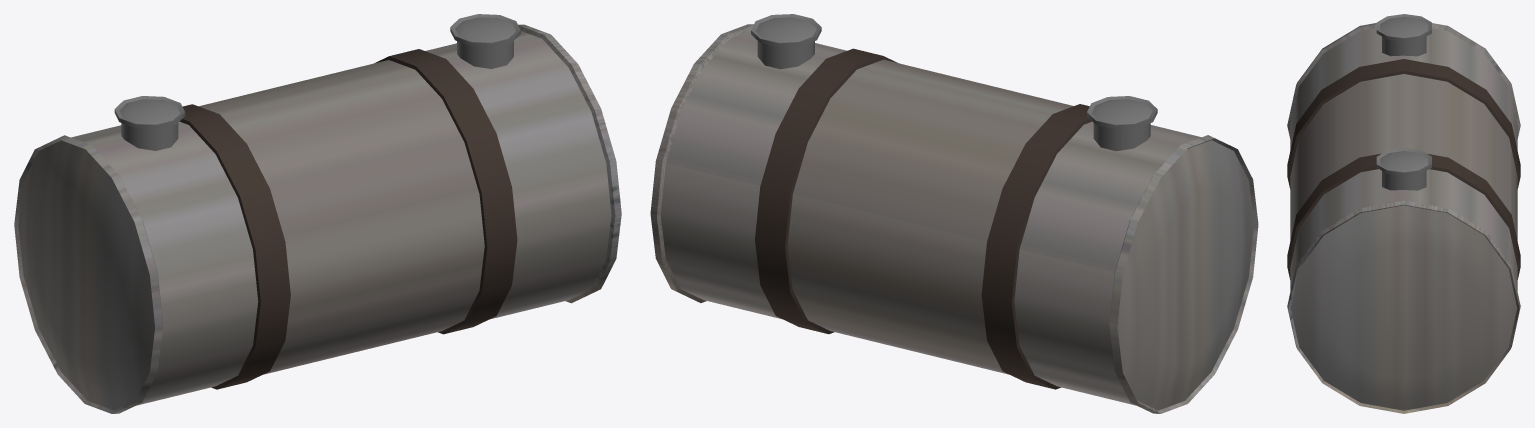
Rendered from hoztank.glb.
The picture shows the model from 3 angles, left to right: view 1: azimuth 30°, elevation 25°; view 2: azimuth 150°, elevation 25°; view 3: azimuth 270°, elevation 25°; orthographic projection. The views are drawn at different scales.
Visible parts, largest first — view 1: node_id58, node_id62, node_id60; view 2: node_id58, node_id62, node_id60; view 3: node_id58, node_id62, node_id60.
Part boxes in pixels (<box>): node_id58: <box>14,24,621,413</box>; node_id62: <box>180,49,517,389</box>; node_id60: <box>114,14,520,150</box>; node_id58: <box>650,24,1258,413</box>; node_id62: <box>755,48,1091,389</box>; node_id60: <box>751,14,1157,151</box>; node_id58: <box>1287,23,1520,413</box>; node_id62: <box>1287,59,1520,279</box>; node_id60: <box>1376,14,1431,190</box>.
Size of the model in its own units: 0.512 by 0.2876 by 0.2641.
Materials: 3 (3 with a texture image).
